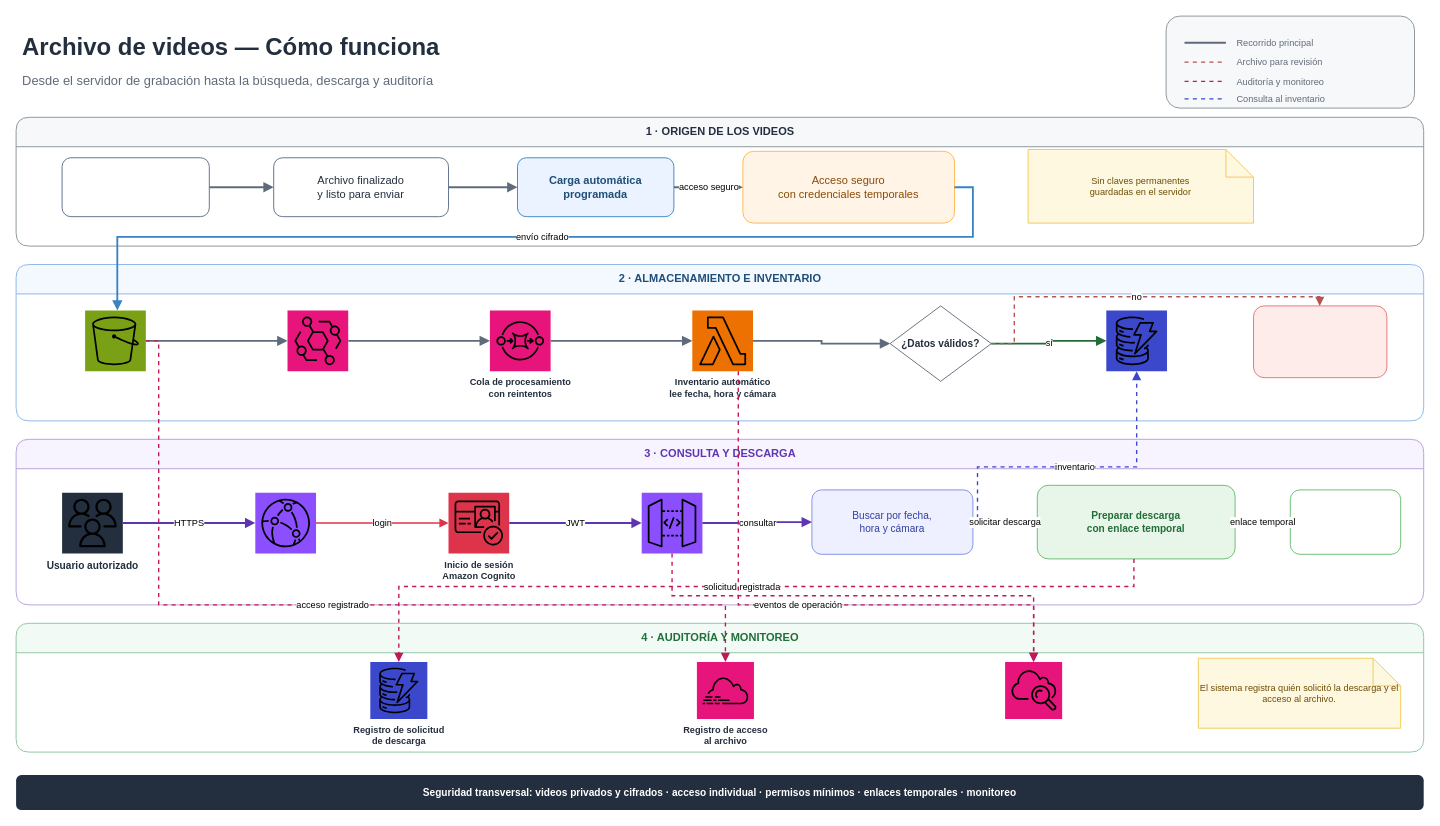
Some shapes in this 1440 by 826 pixel diagram are drawn without their labels. Each missing label, with the centre of its shape:
"Almacenamiento seguro Amazon S3" belongs at (x=115, y=340).
"Aplicación web segura Amazon CloudFront" belongs at (x=285, y=522).
"Archivo marcado para revisión (nunca se pierde)" belongs at (x=1320, y=341).
"Aviso automático de nuevo archivo" belongs at (x=317, y=340).
"Búsqueda y permisos API Gateway" belongs at (x=671, y=522).
"Catálogo de grabaciones Amazon DynamoDB" belongs at (x=1136, y=340).
"Descarga del video" belongs at (x=1345, y=521).
"Monitoreo y alertas" belongs at (x=1033, y=690).
"Sistema de cámaras genera una grabación" belongs at (x=135, y=187).
